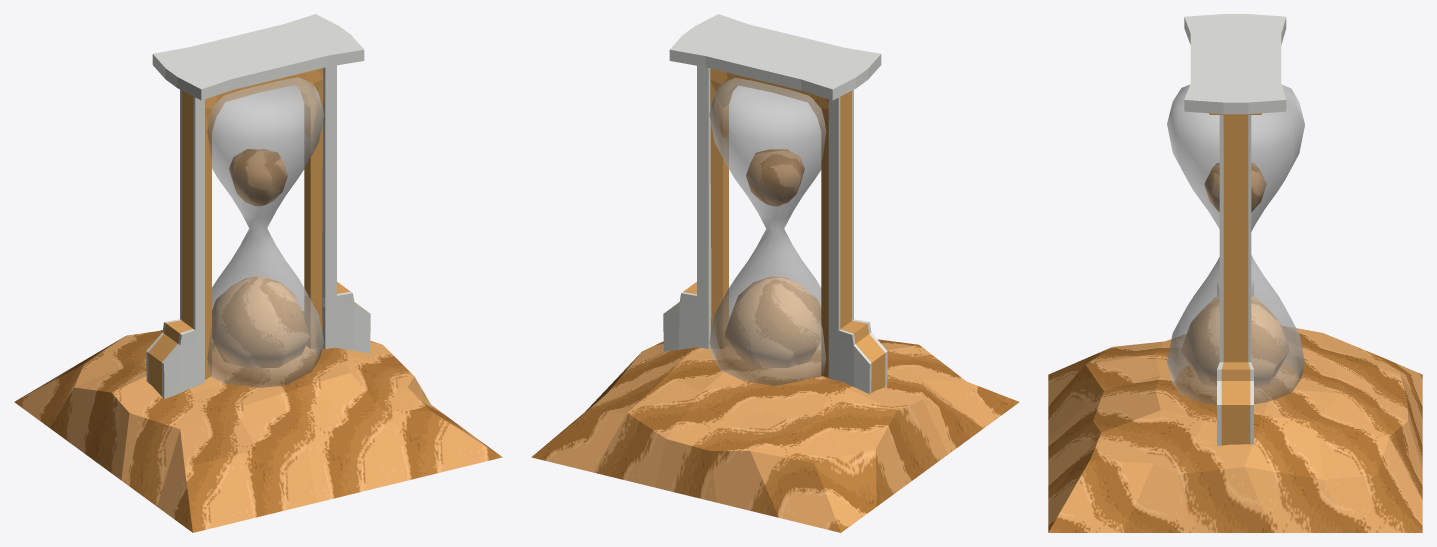
Rendered from CentralTower.fbx.
3 renders of one model, left to right at view 1: azimuth 30°, elevation 25°; view 2: azimuth 150°, elevation 25°; view 3: azimuth 270°, elevation 25°, orthographic. The views are drawn at different scales.
Parts seen in each view (by area): view 1: Cube.001; view 2: Cube.001; view 3: Cube.001.
Part boxes in pixels (x1,y1,x2,y2): Cube.001: (14,14,502,532); Cube.001: (531,14,1019,532); Cube.001: (1048,14,1422,532).
Bounding box in the file's own units: 2126 × 1824 × 1824.
